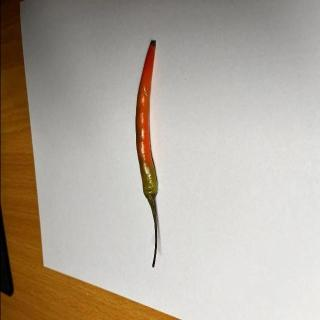Cabai Merah: (135, 40, 159, 269)
